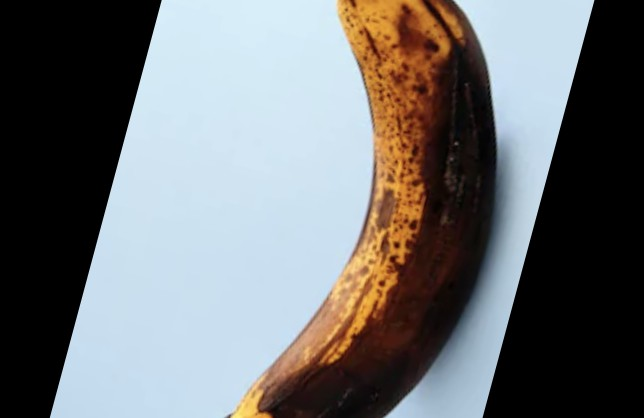rotten_banana: (226, 1, 500, 418)
